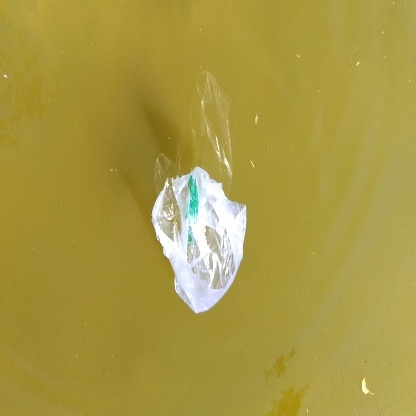plastic-bag: (148, 167, 250, 320)
